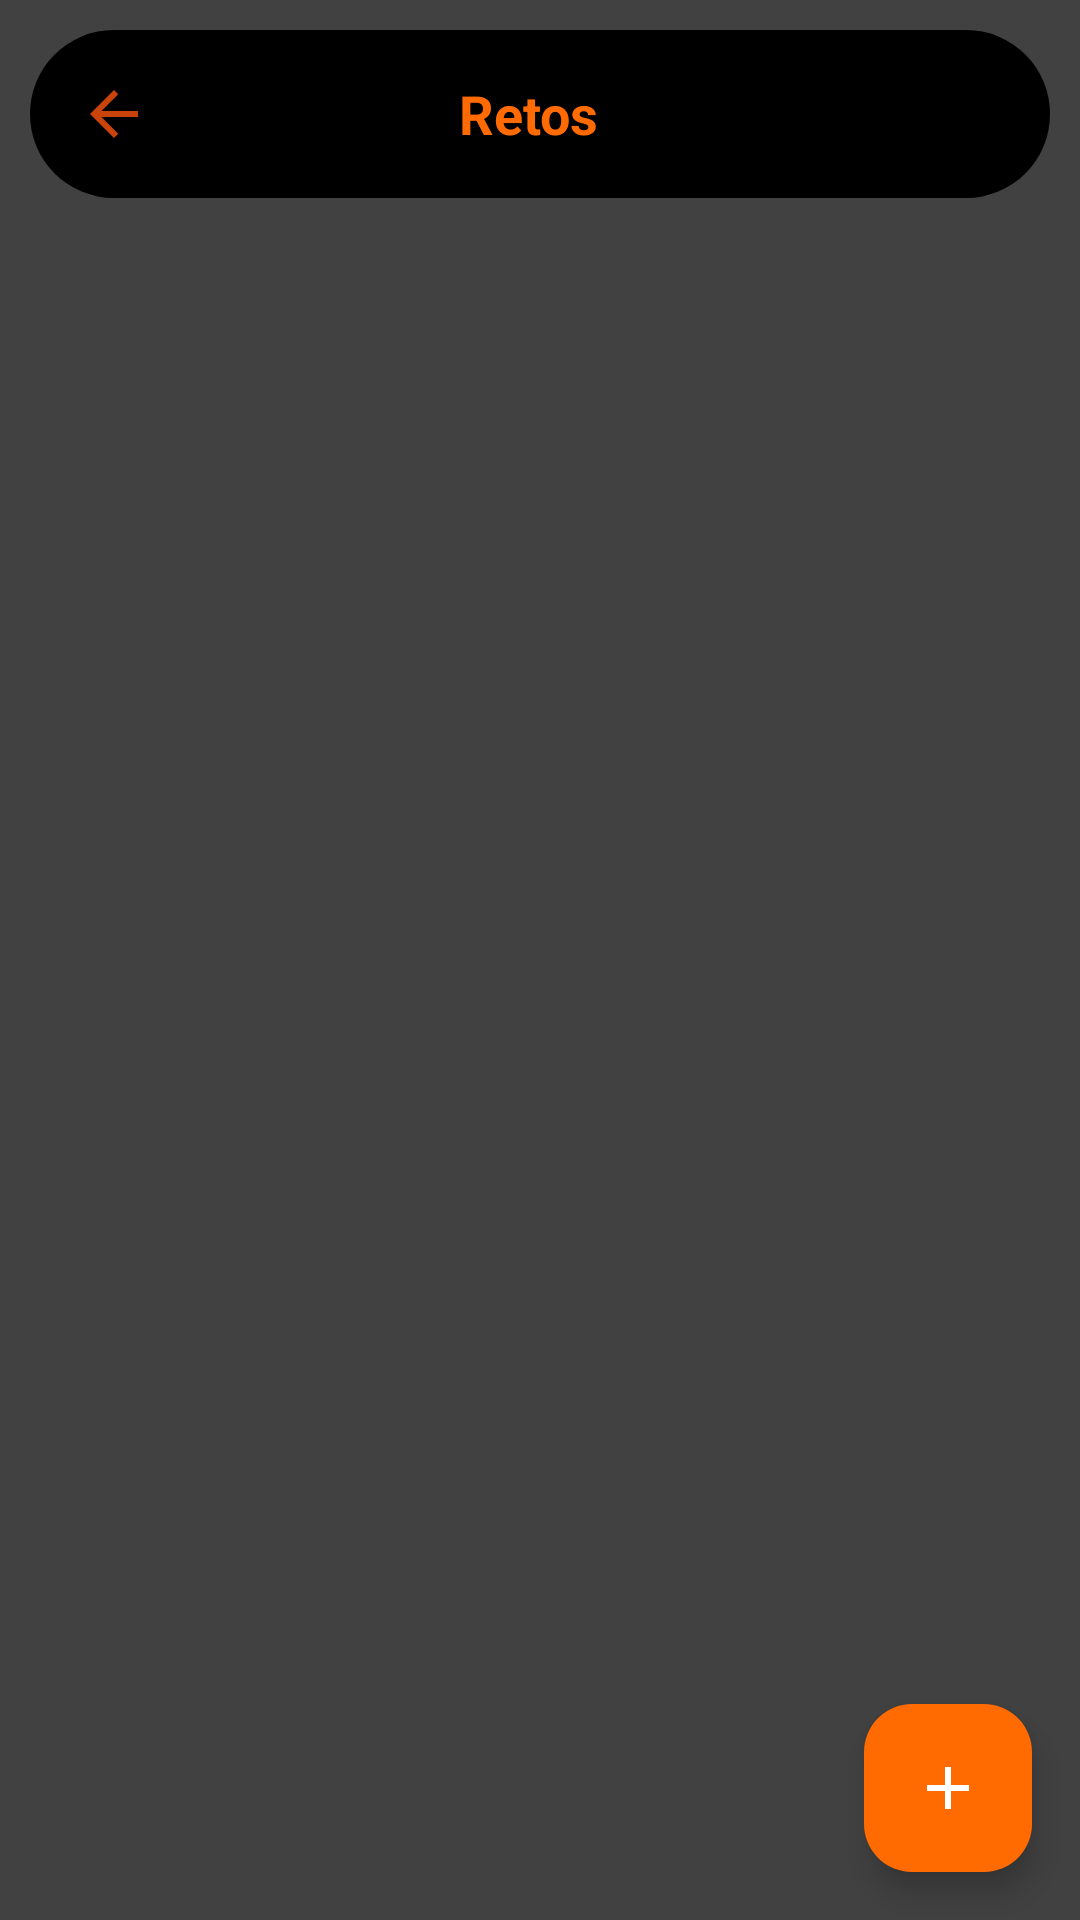

Locate icon controls on the screen. Image size 1080px×1920px, boxes as {"x1": x1, "y1": y1, "x2": x2, "y2": y2}.
add: {"x1": 864, "y1": 1704, "x2": 1032, "y2": 1872}
Volver: {"x1": 90, "y1": 90, "x2": 138, "y2": 138}
